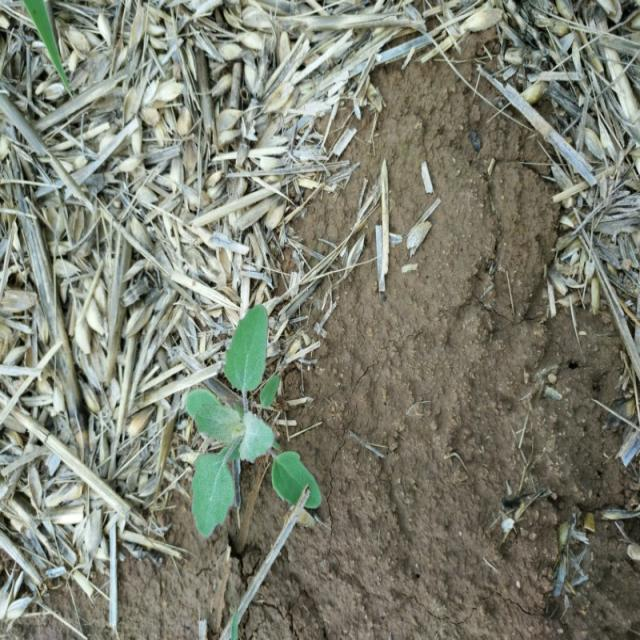goosefoots: (150, 310, 331, 532)
